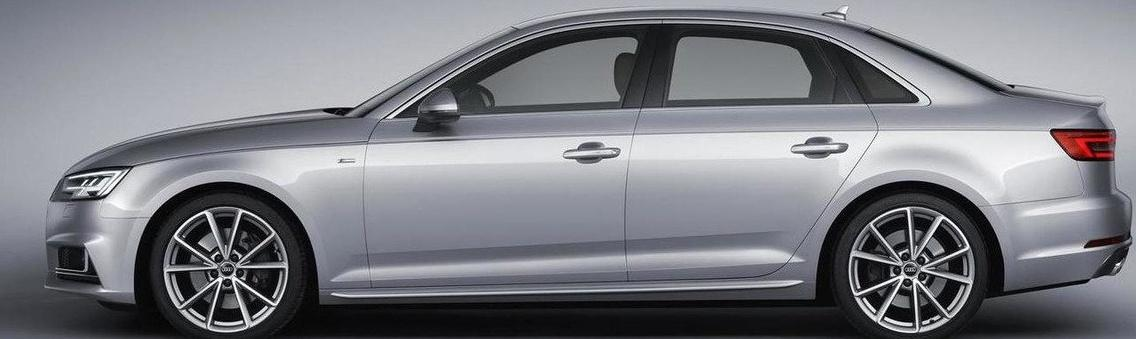Cars: (44, 9, 1136, 337)
